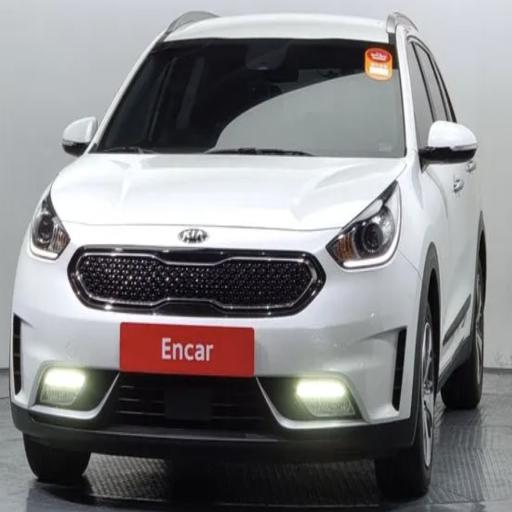normal: (12, 9, 497, 492)
